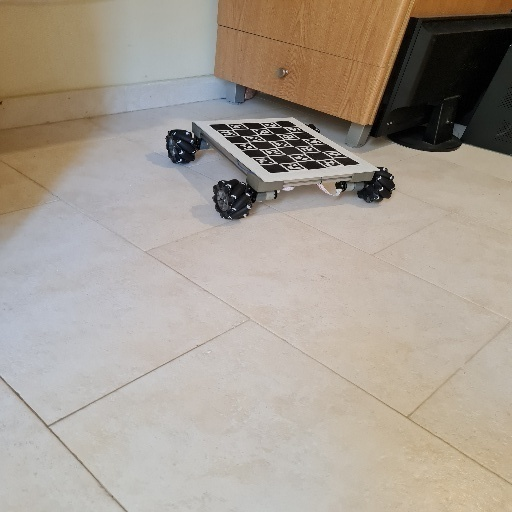Omniwheel: (165, 117, 398, 221)
